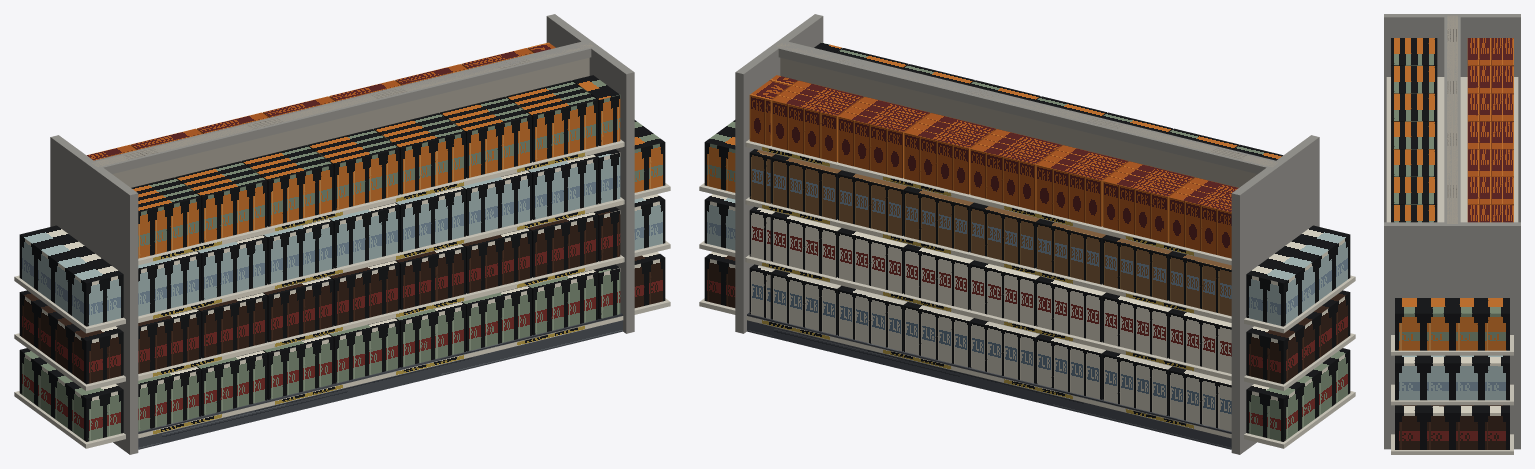
Rendered from COM_Gondola_Grocery_C.glb.
The picture shows the model from 3 angles, left to right: view 1: azimuth 30°, elevation 25°; view 2: azimuth 150°, elevation 25°; view 3: azimuth 270°, elevation 25°; orthographic projection. The views are drawn at different scales.
Parts seen in each view (by area): view 1: COM_Gondola_Grocery_C_Mesh; view 2: COM_Gondola_Grocery_C_Mesh; view 3: COM_Gondola_Grocery_C_Mesh.
Boxes of the visible parts, x1,y1,x2,y2 form: COM_Gondola_Grocery_C_Mesh: [14, 14, 670, 454]; COM_Gondola_Grocery_C_Mesh: [699, 14, 1355, 454]; COM_Gondola_Grocery_C_Mesh: [1384, 14, 1520, 454].
Size of what is drawn, in the model's own units: 4.24 by 1.8 by 1.
Materials: 1 (1 with a texture image).
